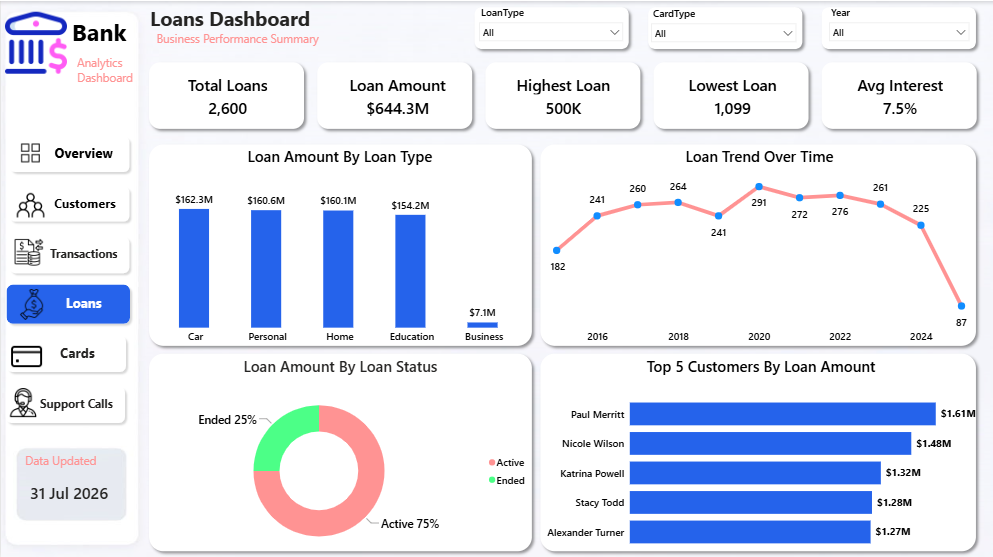

Layout of this report page (visuals, bound fields, positions):
{"tool":"powerbi","page":{"name":"Loans","canvas":[1600,900],"ordinal":3},"visuals":[{"type":"cardVisual","fields":{"Data":["Customer calculation.Num_Of_Loans"]},"box":[236,92.8,260,118],"z":0},{"type":"shape","box":[2,532.5,207.3,73.4],"z":0,"group":"g5"},{"type":"cardVisual","fields":{"Data":["Calculation Overview.Loan Amount"]},"box":[510,92.8,260,118],"z":1000},{"type":"image","box":[12,548,60,50],"z":1000,"group":"g5"},{"type":"cardVisual","fields":{"Data":["Customer calculation.Max Loan"]},"box":[777.6,92.9,259.8,118.7],"z":2000},{"type":"cardVisual","fields":{"Data":["Customer calculation.Min Loan"]},"box":[1050,92.8,260,118],"z":3000},{"type":"cardVisual","fields":{"Data":["Customer calculation.Avg Interest"]},"box":[1324,92.8,252,118],"z":4000},{"type":"lineChart","title":"Loan Trend Over Time","fields":{"Category":["Calender.Date.Variation.Date Hierarchy.Year","Calender.Date.Variation.Date Hierarchy.Quarter","Calender.Date.Variation.Date Hierarchy.Month","Calender.Date.Variation.Date Hierarchy.Day"],"Y":["Customer calculation.Num_Of_Loans"]},"box":[874,234,698,328],"z":5000},{"type":"columnChart","title":"Loan Amount By Loan Type","fields":{"Category":["Loans.LoanType"],"Y":["Calculation Overview.Loan Amount"]},"box":[236,234,622,328],"z":6000},{"type":"slicer","fields":{"Values":["Calender.Year"]},"box":[1326,1,246,74],"z":7000},{"type":"slicer","fields":{"Values":["Cards.CardType"]},"box":[1038,4,254,68],"z":8000},{"type":"slicer","fields":{"Values":["Loans.LoanType"]},"box":[762,1,252,74],"z":9000},{"type":"donutChart","title":"Loan Amount By Loan Status","fields":{"Category":["Loans.Loan_Status"],"Y":["Sum(Loans.LoanAmount)"]},"box":[235.2,573.2,623.6,327.6],"z":10000},{"type":"barChart","title":"Top 5 Customers By Loan Amount","fields":{"Category":["customers.Full Name"],"Y":["Calculation Overview.Loan Amount"]},"box":[873.5,573.2,703.4,327.6],"z":11000},{"type":"cardVisual","fields":{"Data":["Customer Service.Today"]},"box":[18,750,206,82],"z":12000},{"type":"group","id":"g1","title":"Group 1","box":[6,212,208,72],"z":13000},{"type":"group","id":"g2","title":"Group 1","box":[6,292.1,208,72],"z":14000},{"type":"group","id":"g3","title":"Group 1","box":[6,372.2,208,74],"z":15000},{"type":"group","id":"g4","title":"Group 1","box":[0,614,208,72],"z":16000},{"type":"image","box":[6,12,100,112],"z":17000},{"type":"textbox","box":[110,20,106,76],"z":18000},{"type":"textbox","box":[34,722,150,50],"z":19000},{"type":"textbox","box":[236,0,380,80],"z":20000},{"type":"textbox","box":[118,80,118,76],"z":21000},{"type":"group","id":"g5","title":"Group 2","box":[2,532.5,207.3,73.4],"z":22000},{"type":"shape","box":[6,212,208,72],"z":23000,"group":"g1"},{"type":"shape","box":[6,292.1,208,71.2],"z":23000,"group":"g2"},{"type":"shape","box":[6,372.2,207.8,73.9],"z":23000,"group":"g3"},{"type":"group","id":"g6","title":"Group 3","box":[2,450,214,78],"z":23000},{"type":"shape","box":[2,450,214,78],"z":23000,"group":"g6"},{"type":"shape","box":[0,614,207.3,73.4],"z":23000,"group":"g4"},{"type":"image","box":[19.9,223.6,53.5,44.8],"z":24000,"group":"g1"},{"type":"image","box":[23.1,306.4,46.9,45.6],"z":24000,"group":"g2"},{"type":"image","box":[19.9,381.5,48.8,46.2],"z":24000,"group":"g3"},{"type":"image","box":[12,464,76,50],"z":24000,"group":"g6"},{"type":"image","box":[11.8,624.2,49.5,47],"z":24000,"group":"g4"}]}

Visuals, with their boxes on the page's 1600x900 design canvas (x1, y1, x2, y2). These are canvas units, not pixel positions in the 993x557 screenshot, which may show the page scaled, cropped or inside an application window:
cardVisual - Customer calculation.Num_Of_Loans: pyautogui.locateOnScreen(236, 93, 496, 211)
shape: pyautogui.locateOnScreen(2, 532, 209, 606)
cardVisual - Calculation Overview.Loan Amount: pyautogui.locateOnScreen(510, 93, 770, 211)
image: pyautogui.locateOnScreen(12, 548, 72, 598)
cardVisual - Customer calculation.Max Loan: pyautogui.locateOnScreen(778, 93, 1037, 212)
cardVisual - Customer calculation.Min Loan: pyautogui.locateOnScreen(1050, 93, 1310, 211)
cardVisual - Customer calculation.Avg Interest: pyautogui.locateOnScreen(1324, 93, 1576, 211)
"Loan Trend Over Time" lineChart: pyautogui.locateOnScreen(874, 234, 1572, 562)
"Loan Amount By Loan Type" columnChart: pyautogui.locateOnScreen(236, 234, 858, 562)
slicer - Calender.Year: pyautogui.locateOnScreen(1326, 1, 1572, 75)
slicer - Cards.CardType: pyautogui.locateOnScreen(1038, 4, 1292, 72)
slicer - Loans.LoanType: pyautogui.locateOnScreen(762, 1, 1014, 75)
"Loan Amount By Loan Status" donutChart: pyautogui.locateOnScreen(235, 573, 859, 901)
"Top 5 Customers By Loan Amount" barChart: pyautogui.locateOnScreen(874, 573, 1577, 901)
cardVisual - Customer Service.Today: pyautogui.locateOnScreen(18, 750, 224, 832)
"Group 1" group: pyautogui.locateOnScreen(6, 212, 214, 284)
"Group 1" group: pyautogui.locateOnScreen(6, 292, 214, 364)
"Group 1" group: pyautogui.locateOnScreen(6, 372, 214, 446)
"Group 1" group: pyautogui.locateOnScreen(0, 614, 208, 686)
image: pyautogui.locateOnScreen(6, 12, 106, 124)
textbox: pyautogui.locateOnScreen(110, 20, 216, 96)
textbox: pyautogui.locateOnScreen(34, 722, 184, 772)
textbox: pyautogui.locateOnScreen(236, 0, 616, 80)
textbox: pyautogui.locateOnScreen(118, 80, 236, 156)
"Group 2" group: pyautogui.locateOnScreen(2, 532, 209, 606)
shape: pyautogui.locateOnScreen(6, 212, 214, 284)
shape: pyautogui.locateOnScreen(6, 292, 214, 363)
shape: pyautogui.locateOnScreen(6, 372, 214, 446)
"Group 3" group: pyautogui.locateOnScreen(2, 450, 216, 528)
shape: pyautogui.locateOnScreen(2, 450, 216, 528)
shape: pyautogui.locateOnScreen(0, 614, 207, 687)
image: pyautogui.locateOnScreen(20, 224, 73, 268)
image: pyautogui.locateOnScreen(23, 306, 70, 352)
image: pyautogui.locateOnScreen(20, 382, 69, 428)
image: pyautogui.locateOnScreen(12, 464, 88, 514)
image: pyautogui.locateOnScreen(12, 624, 61, 671)
